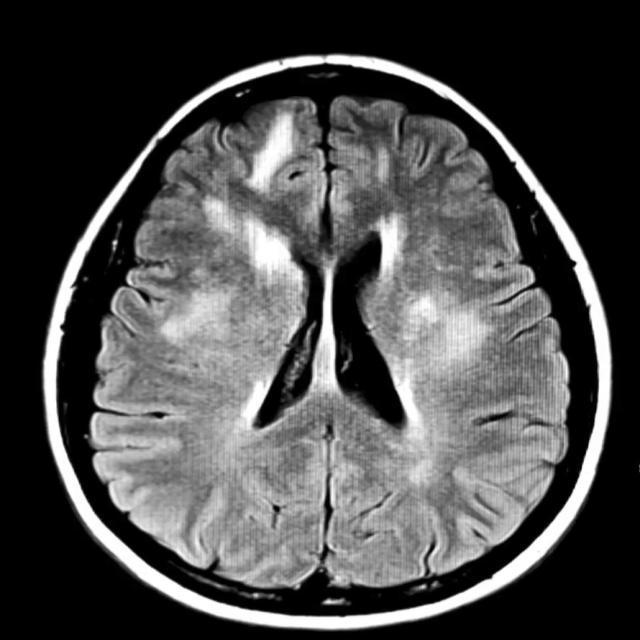No_Tumor: (43, 55, 610, 629)
